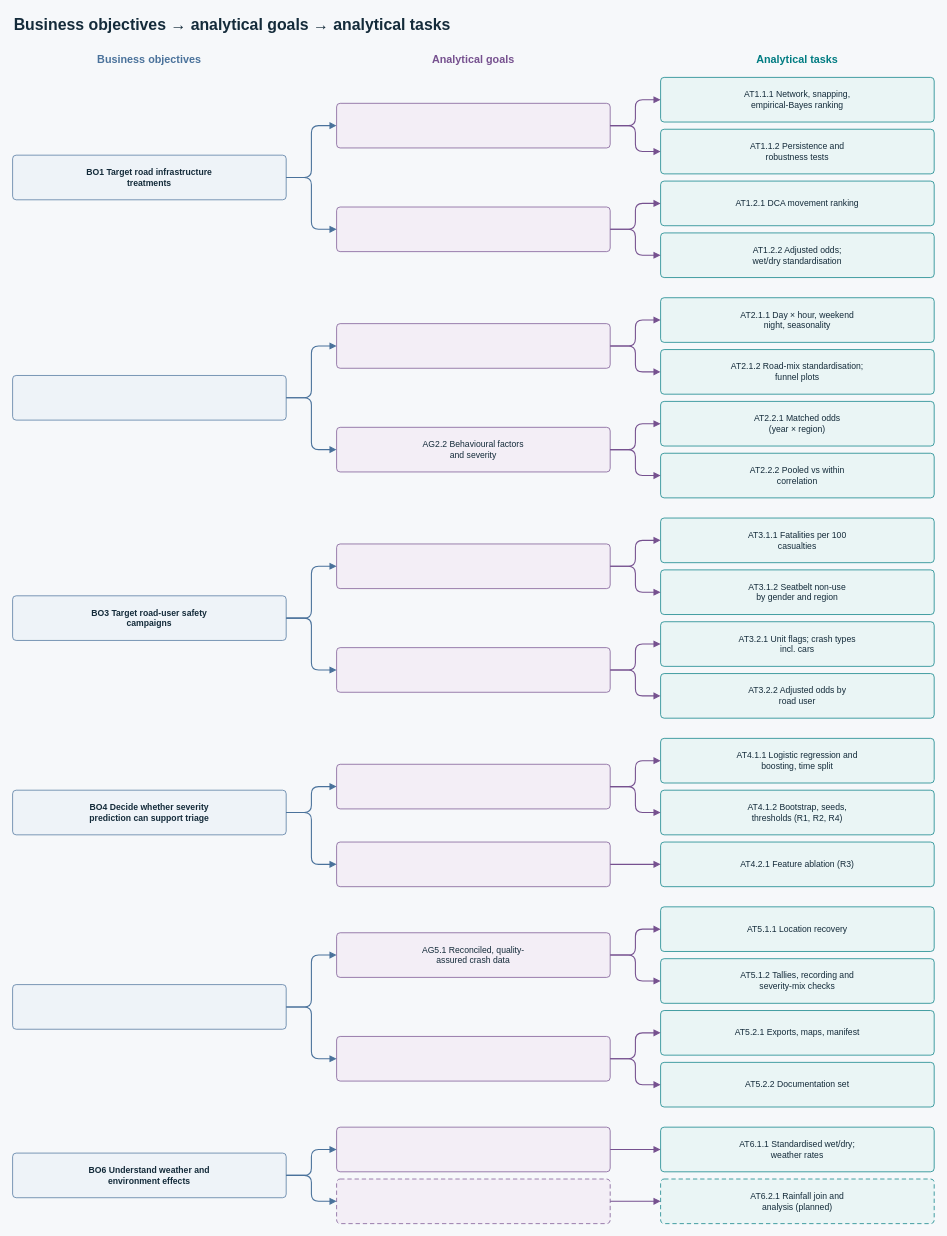
This 947x1236 diagram has some shape labels left out. The centre of each missing label's shape, as x and y in pixels:
AG1.1 Sites with persistent excess serious crashes: point 473,125
AG1.2 Movements and settings linked to fatal outcomes: point 473,229
AG2.1 When and where severity is highest, net of road mix: point 473,345
AG3.1 Outcomes by protection, age and road user: point 473,566
AG3.2 Vulnerable users and vehicle combinations: point 473,669
AG4.1 Calibrated, validated severity models: point 473,786
AG4.2 Feasibility of prediction before a crash: point 473,864
AG5.2 Traceable data products: point 473,1058
AG6.1 Lighting, surface and weather effects: point 473,1149
AG6.2 Rainfall exposure and crash outcomes (planned): point 473,1201
BO2 Target enforcement and incident response: point 149,397
BO5 Trustworthy, reproducible, accessible evidence: point 149,1006
